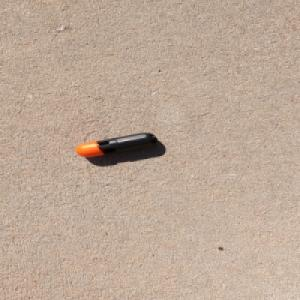PlasticPart: (73, 130, 159, 157)
